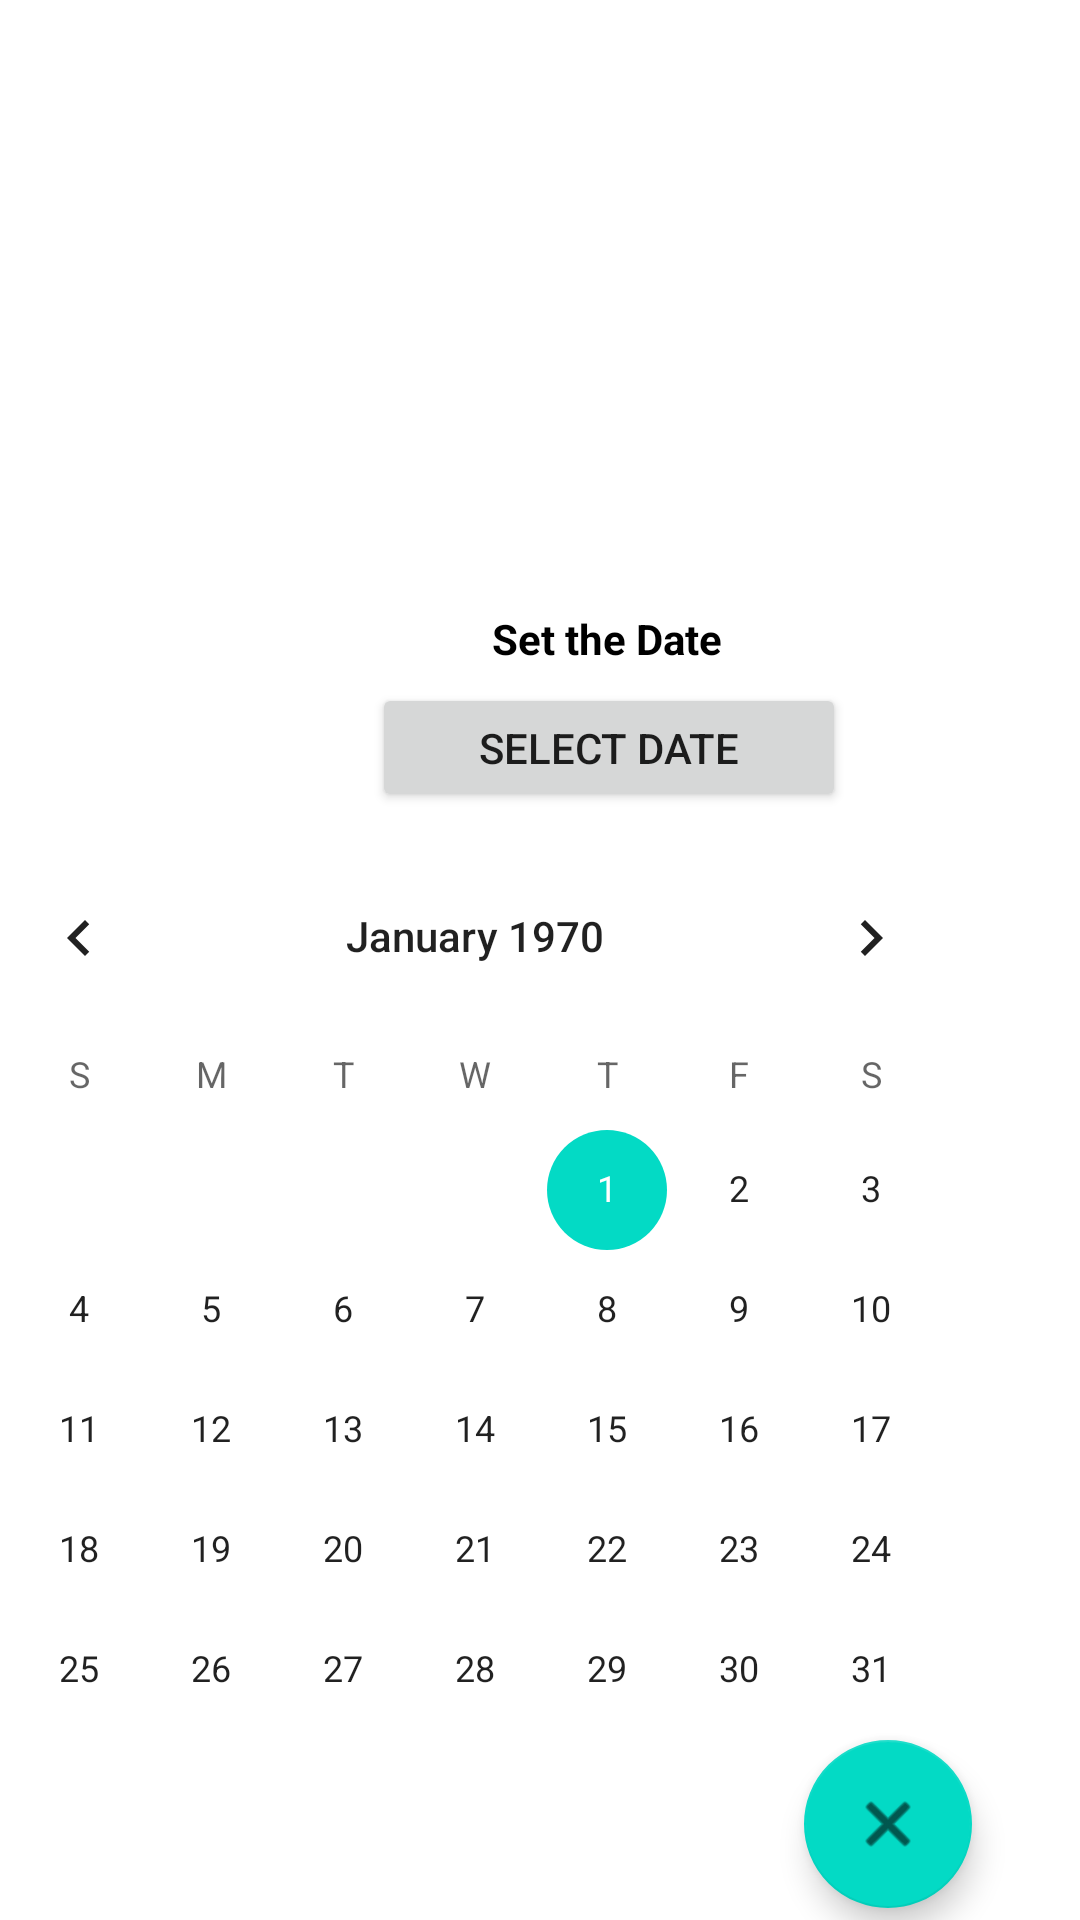

Named icons in this screenshot (1080 × 1920) and their bounding boxes, (x1, y1, x2, y2):
close clear cancel: (804, 1740, 972, 1908)
